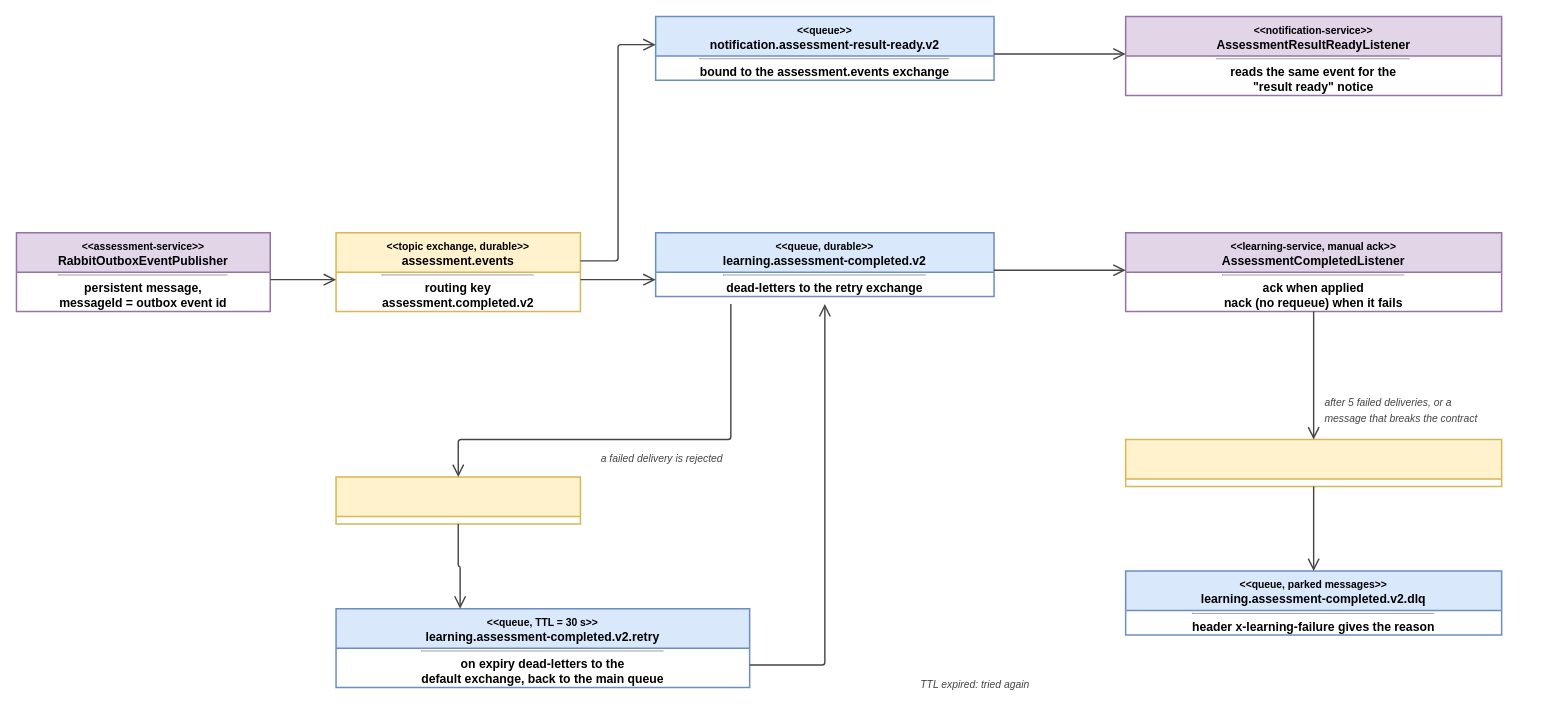
Some shapes in this 1565 by 708 pixel diagram are drawn without their labels. Each missing label, with the centre of its shape:
"<<direct exchange>> learning.assessment-completed.dlx" belongs at point (1313, 462).
"<<direct exchange>> learning.assessment-completed.retry" belongs at point (458, 500).
